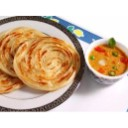parota: (17, 38, 79, 90), (2, 27, 47, 80)
